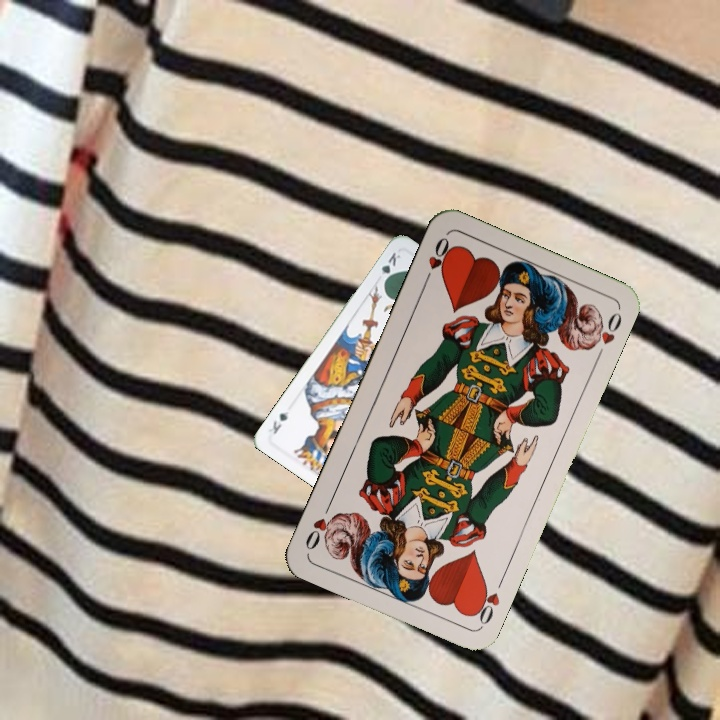GK: (377, 248, 403, 286)
HO: (468, 573, 507, 629), (419, 233, 456, 288)
